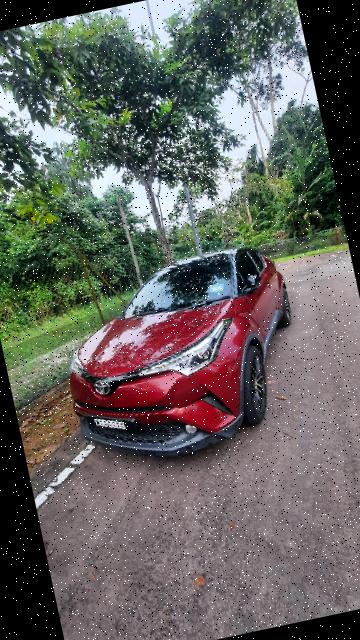License_Plate: (89, 408, 142, 450)
car: (40, 234, 326, 483)
